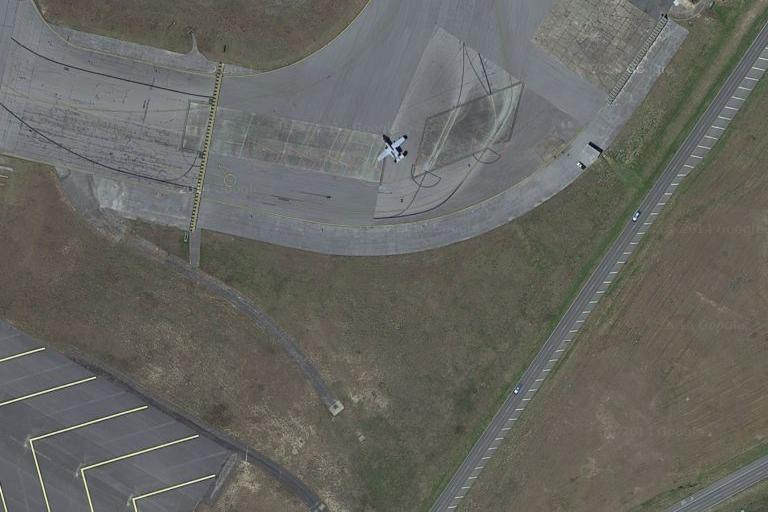A-10: (369, 128, 416, 168)
